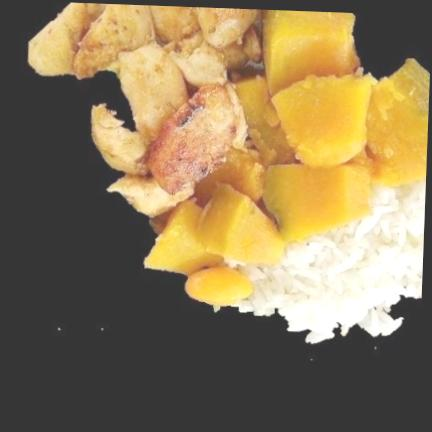cassava: (149, 10, 430, 306)
chicken: (29, 3, 266, 217)
rice: (227, 180, 426, 344)
